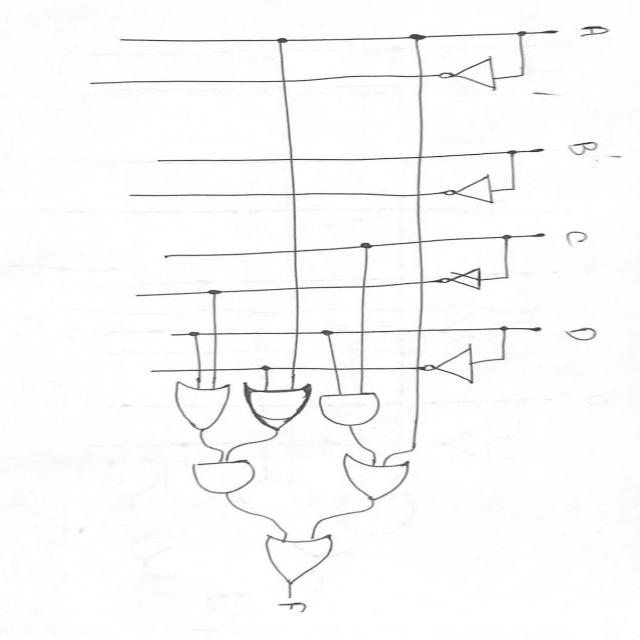AND: (184, 457, 276, 503), (315, 392, 388, 430)
NOT: (433, 56, 511, 96), (438, 174, 510, 215), (425, 344, 495, 385), (428, 263, 497, 300)
OR: (246, 528, 359, 592), (332, 450, 434, 513), (158, 376, 234, 434), (242, 379, 314, 435)
